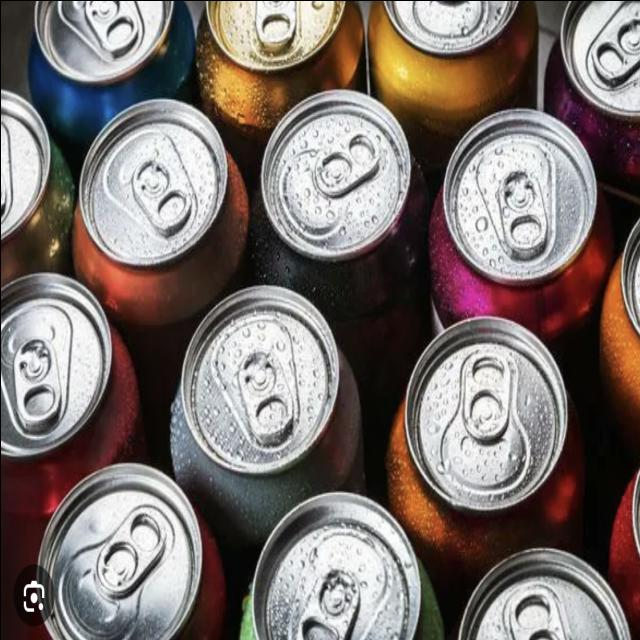can: (396, 292, 584, 524), (170, 282, 373, 486), (48, 91, 245, 285), (254, 70, 418, 272), (226, 487, 437, 640), (434, 108, 608, 280)
